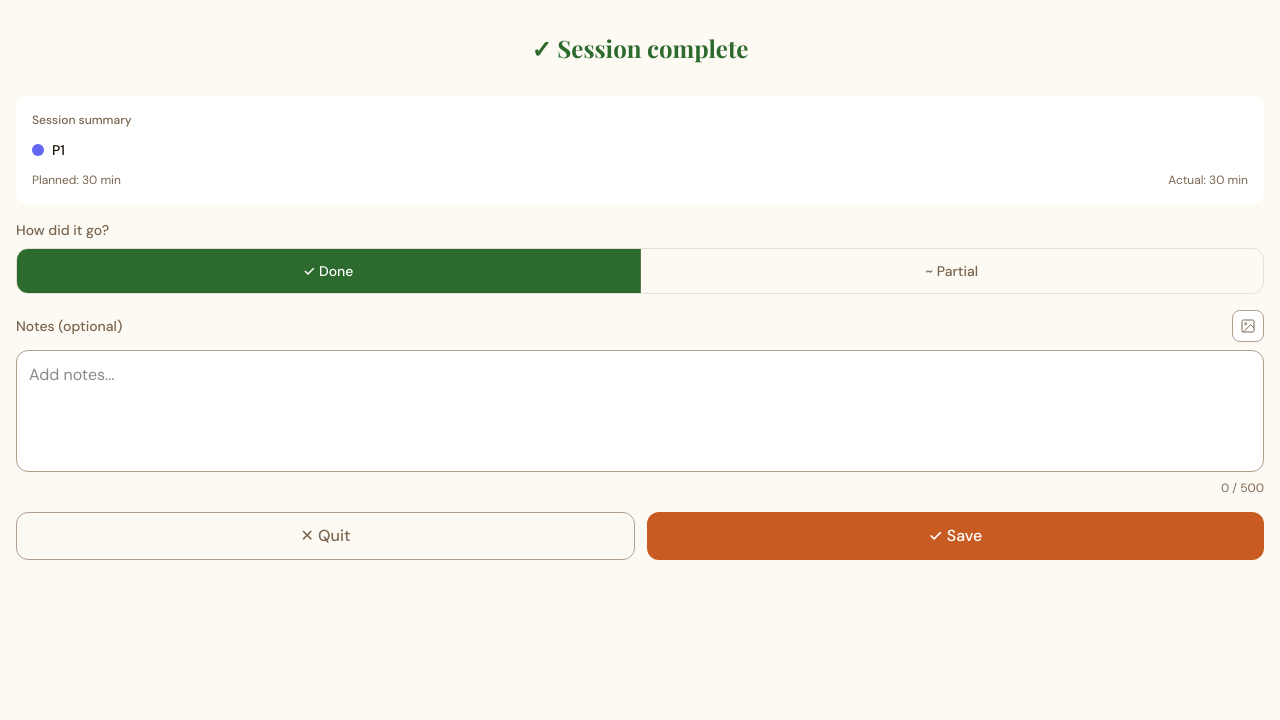
SessionComplete save flow › cancelling quit dialog keeps the user on the page
Click the button "✕ Quit": (326, 536) x1=16 y1=512 x2=635 y2=560
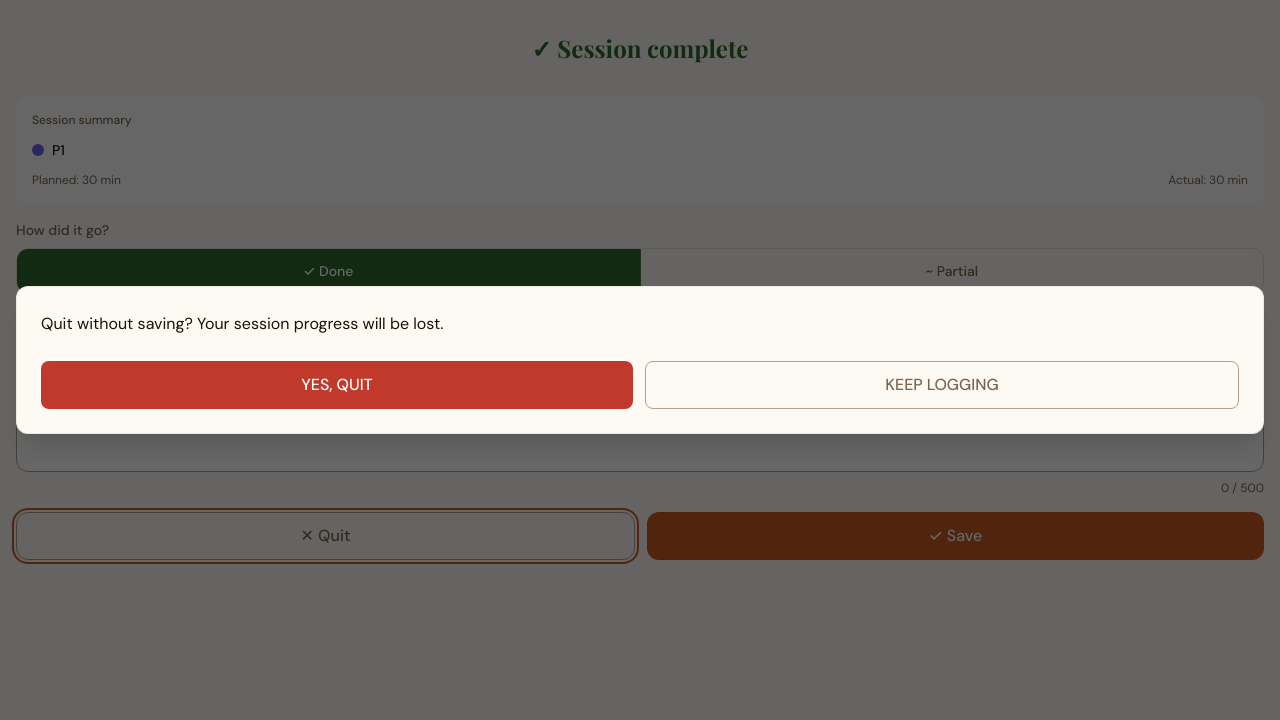
Click the button "KEEP LOGGING": (942, 385) x1=645 y1=361 x2=1239 y2=409
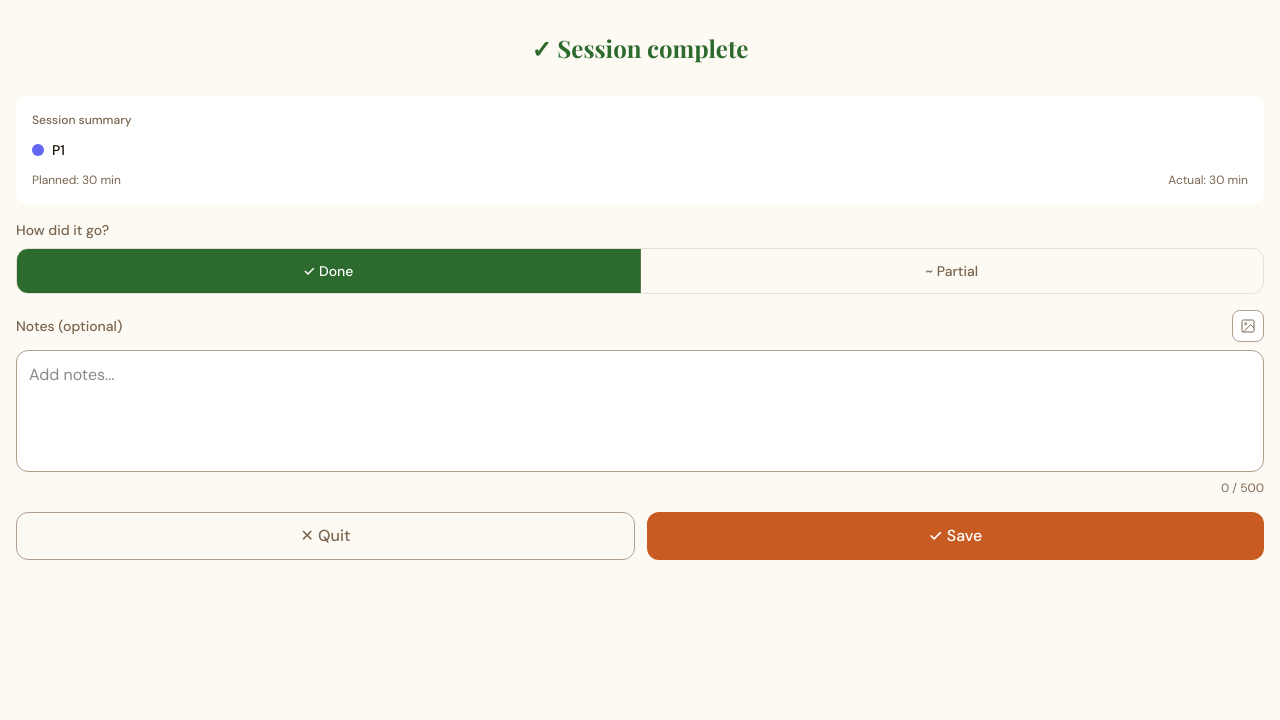
Now the dialog is gone
